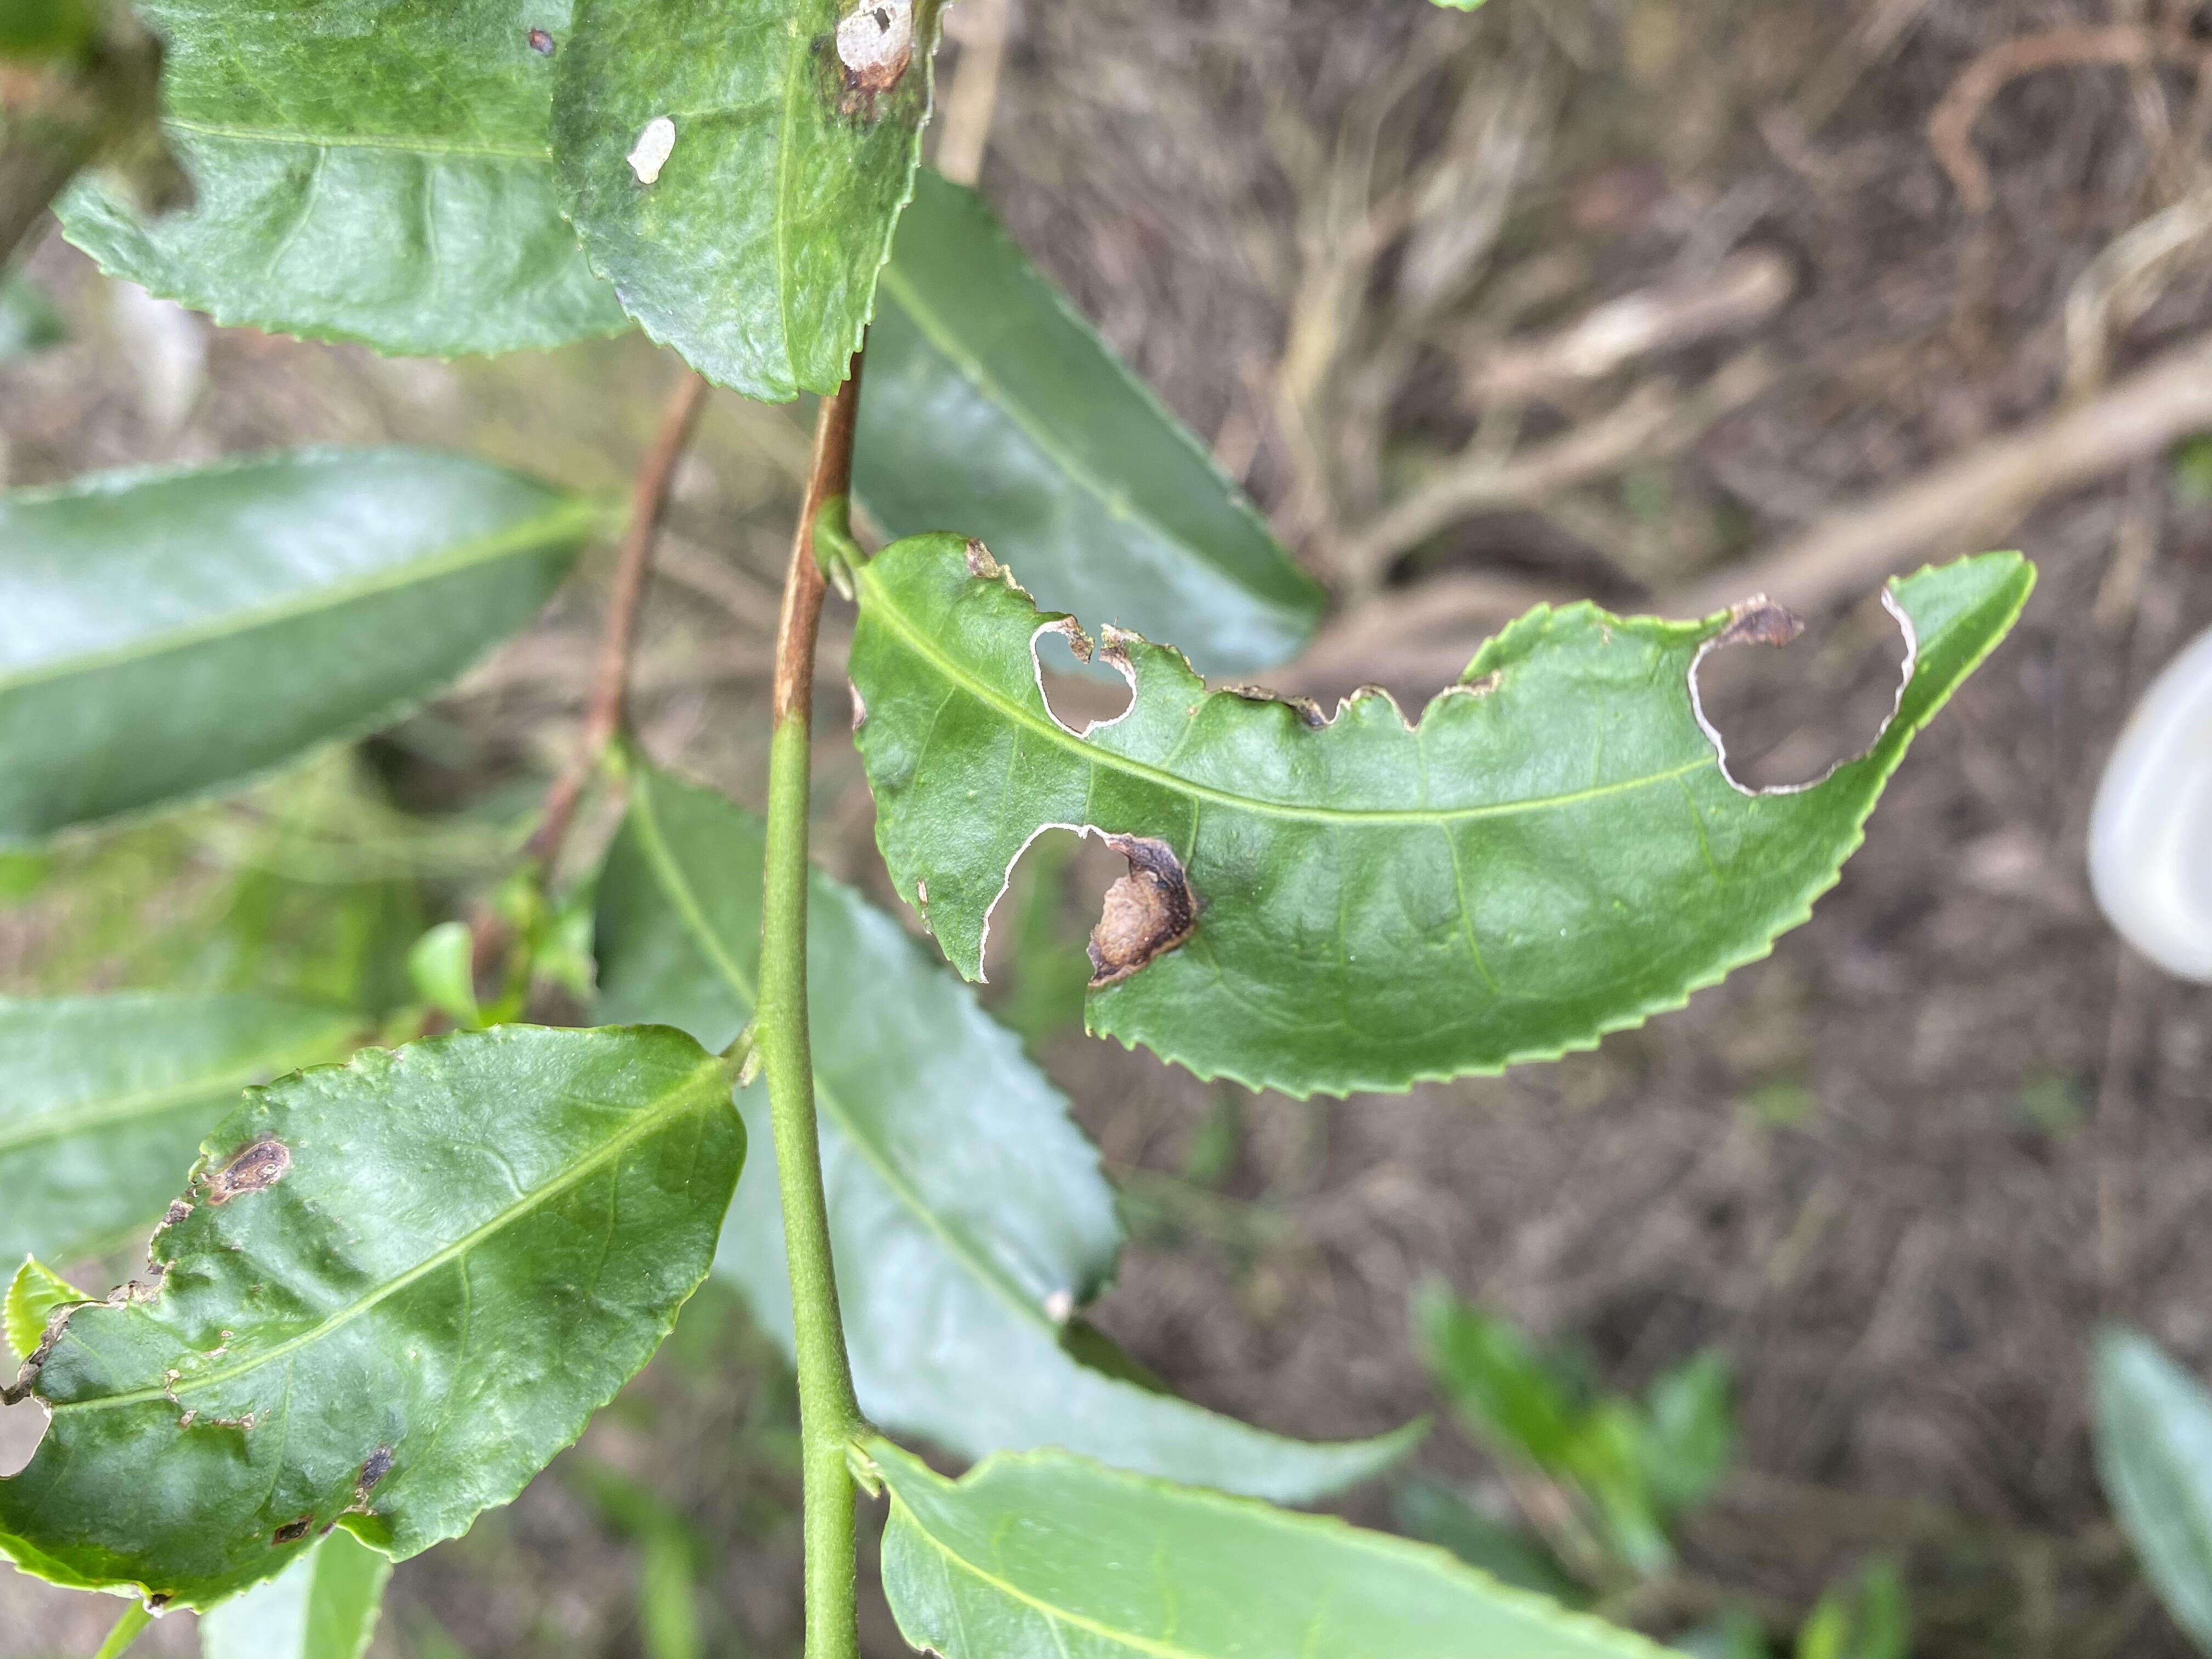chihuo_high: (846, 533, 2038, 1105)
tanju_high: (3, 1021, 747, 1619), (547, 3, 951, 403)
